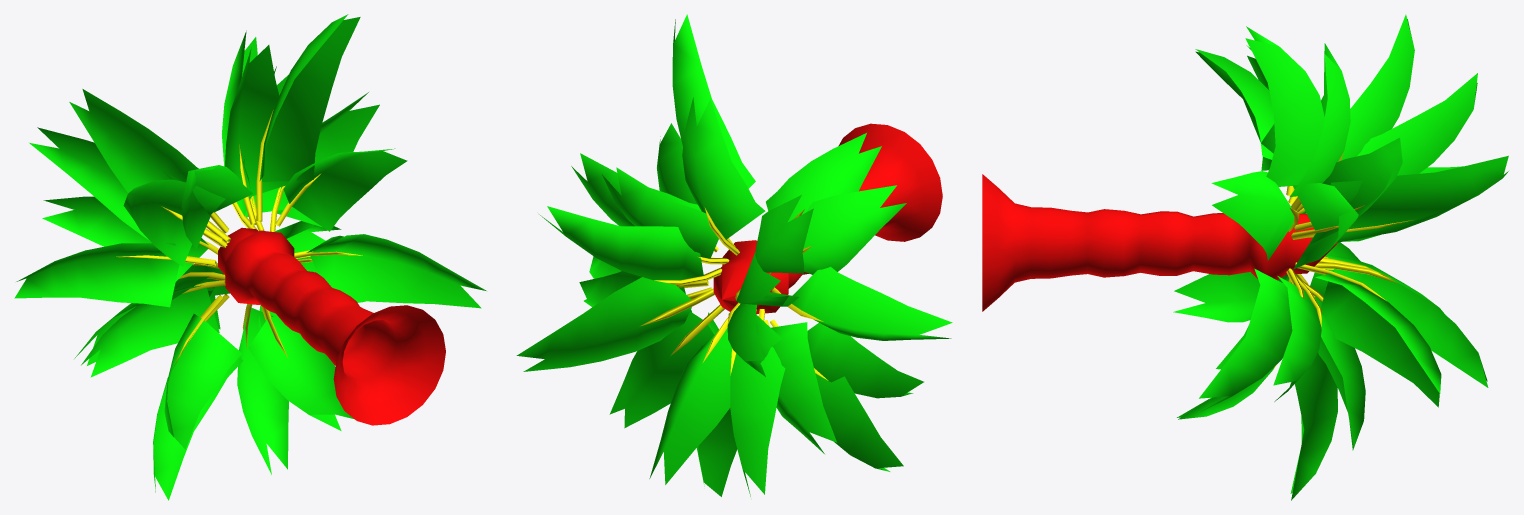
Rendered from M_P10_Tree_7.FBX.
3 views of the same model, side by side, from view 1: azimuth 30°, elevation 25°; view 2: azimuth 150°, elevation 25°; view 3: azimuth 270°, elevation 25° (orthographic). The views are drawn at different scales.
Parts seen in each view (by area): view 1: M_P10_Tree_7_LOD0; view 2: M_P10_Tree_7_LOD0; view 3: M_P10_Tree_7_LOD0.
Part boxes in pixels (x1,y1,x2,y2): M_P10_Tree_7_LOD0: (14,14,486,500); M_P10_Tree_7_LOD0: (516,14,952,496); M_P10_Tree_7_LOD0: (982,14,1508,500).
Size of the model in its own units: 317 by 321 by 335.
